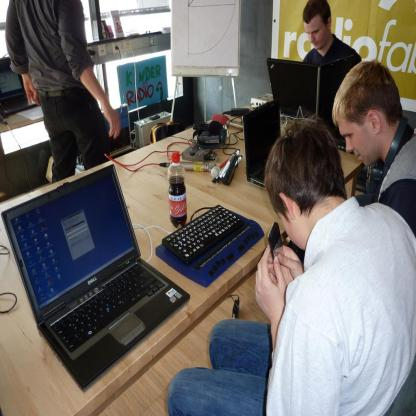board: (9, 155, 202, 390), (316, 56, 354, 154), (243, 98, 280, 189), (268, 60, 319, 114), (168, 152, 188, 226)
